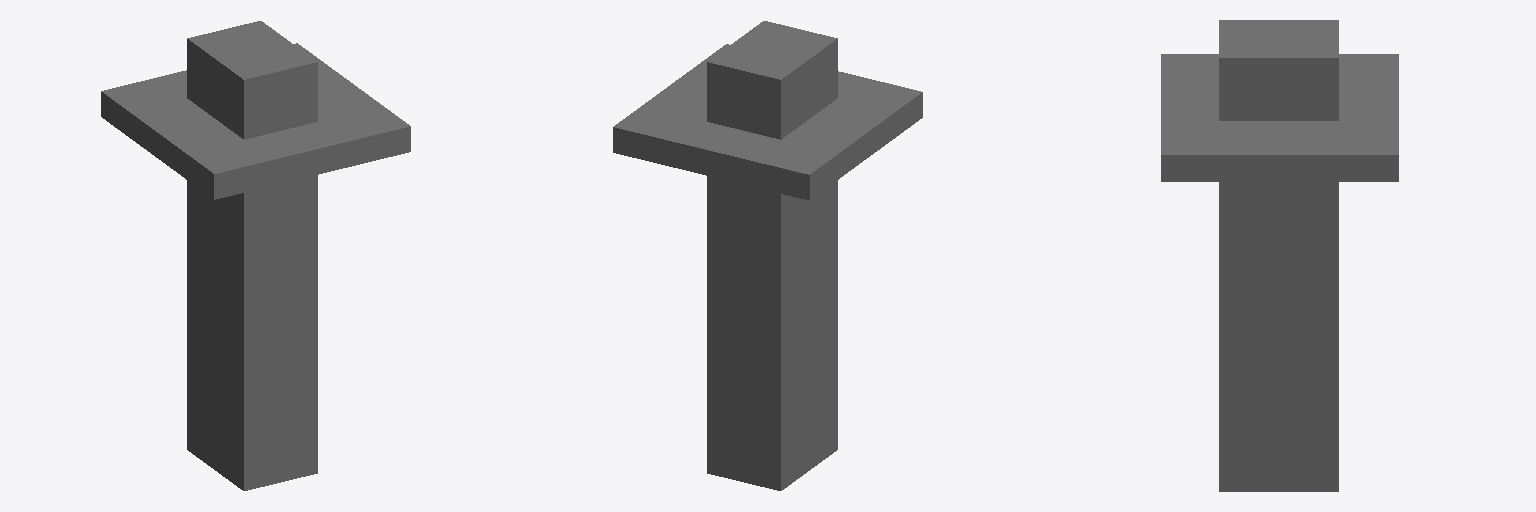
The robot description file, URDF, robot "ball_joint_object":
<?xml version="1.0" ?>
<robot name="ball_joint_object">

  <!-- Fixed base link -->
  <link name="base_link">
    <visual>
      <geometry>
        <mesh filename="./pin.obj" scale="1 1 1" />
      </geometry>
      <material name="gray">
        <color rgba="0.5 0.5 0.5 1.0"/>
      </material>
    </visual>
    <collision>
      <origin rpy="0.0 0.0 0.0" xyz="0 0 0" />
			<geometry>
				<mesh filename="./pin.obj" scale="1 1 1" />
			</geometry>
		</collision>
		<inertial>
			<mass value="1" />
			<inertia ixx="0" ixy="0.0" ixz="0.0" iyy="0" iyz="0.0" izz="0" />
		</inertial>
	</link>

  <!-- First joint: yaw -->
  <joint name="yaw_joint" type="fixed">
    <parent link="base_link"/>
    <child link="moving_link"/>
    <origin xyz="-0 0 0" rpy="-0 0 0"/>
    <axis xyz="1 1 1"/>
    <limit lower="-3.14" upper="3.14" effort="1.0" velocity="2.0"/>
  </joint>

 
  <!-- The final moving link -->
  <link name="moving_link">
    <visual>
			<origin rpy="0 0 0" xyz="0.0 0 0" />
			<geometry>
				<mesh filename="./foot_lone.obj" scale="1 1 1" />
			</geometry>
			<material name="texture">
				<color rgba="1.0 1.0 1.0 1.0" />
			</material>
		</visual>
		<collision>
			<origin rpy="0 0 0" xyz="0.0 0 0" />
			<geometry>
				<mesh filename="./foot_lone.obj" scale="1 1 1" />
			</geometry>
		</collision>
		<inertial>
			<mass value="1.0" />
			<inertia ixx="1.0" ixy="0.0" ixz="0.0" iyy="1.0" iyz="0.0" izz="1.0" />
		</inertial>
	</link>
</robot>

--- Render facts (derived) ---
Views: 3 orthographic renders of the robot side by side, from view 1: azimuth 30°, elevation 25°; view 2: azimuth 150°, elevation 25°; view 3: azimuth 270°, elevation 25°.
Model ball_joint_object with 2 links and 1 joints (1 fixed), rooted at base_link, posed every joint at zero.
Links seen in each view (by area): view 1: base_link; view 2: base_link; view 3: base_link.
Boxes of the visible links, <box> form: base_link: <box>101,21,410,490</box>; base_link: <box>613,21,922,490</box>; base_link: <box>1161,20,1398,491</box>.
Bounding box of the posed robot: 0.04 × 0.04 × 0.08 m (x, y, z).
Meshes: 2 distinct files referenced, 1 mesh visuals loaded (1 OBJ); not drawn: 1 (reference not matched to a file when rendering).